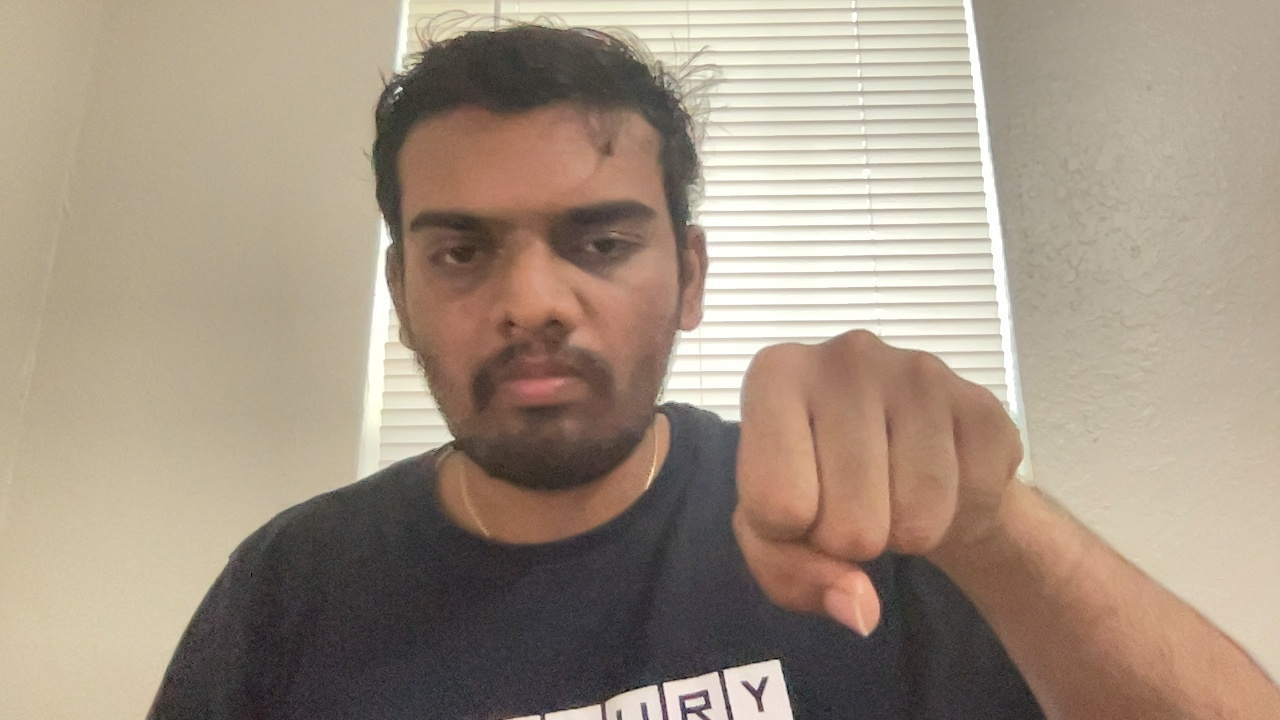yes: (718, 321, 1033, 643)
